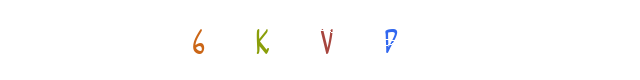6: (221, 0, 301, 80)
D: (350, 0, 430, 80)
K: (224, 0, 304, 80)
V: (280, 0, 360, 80)
